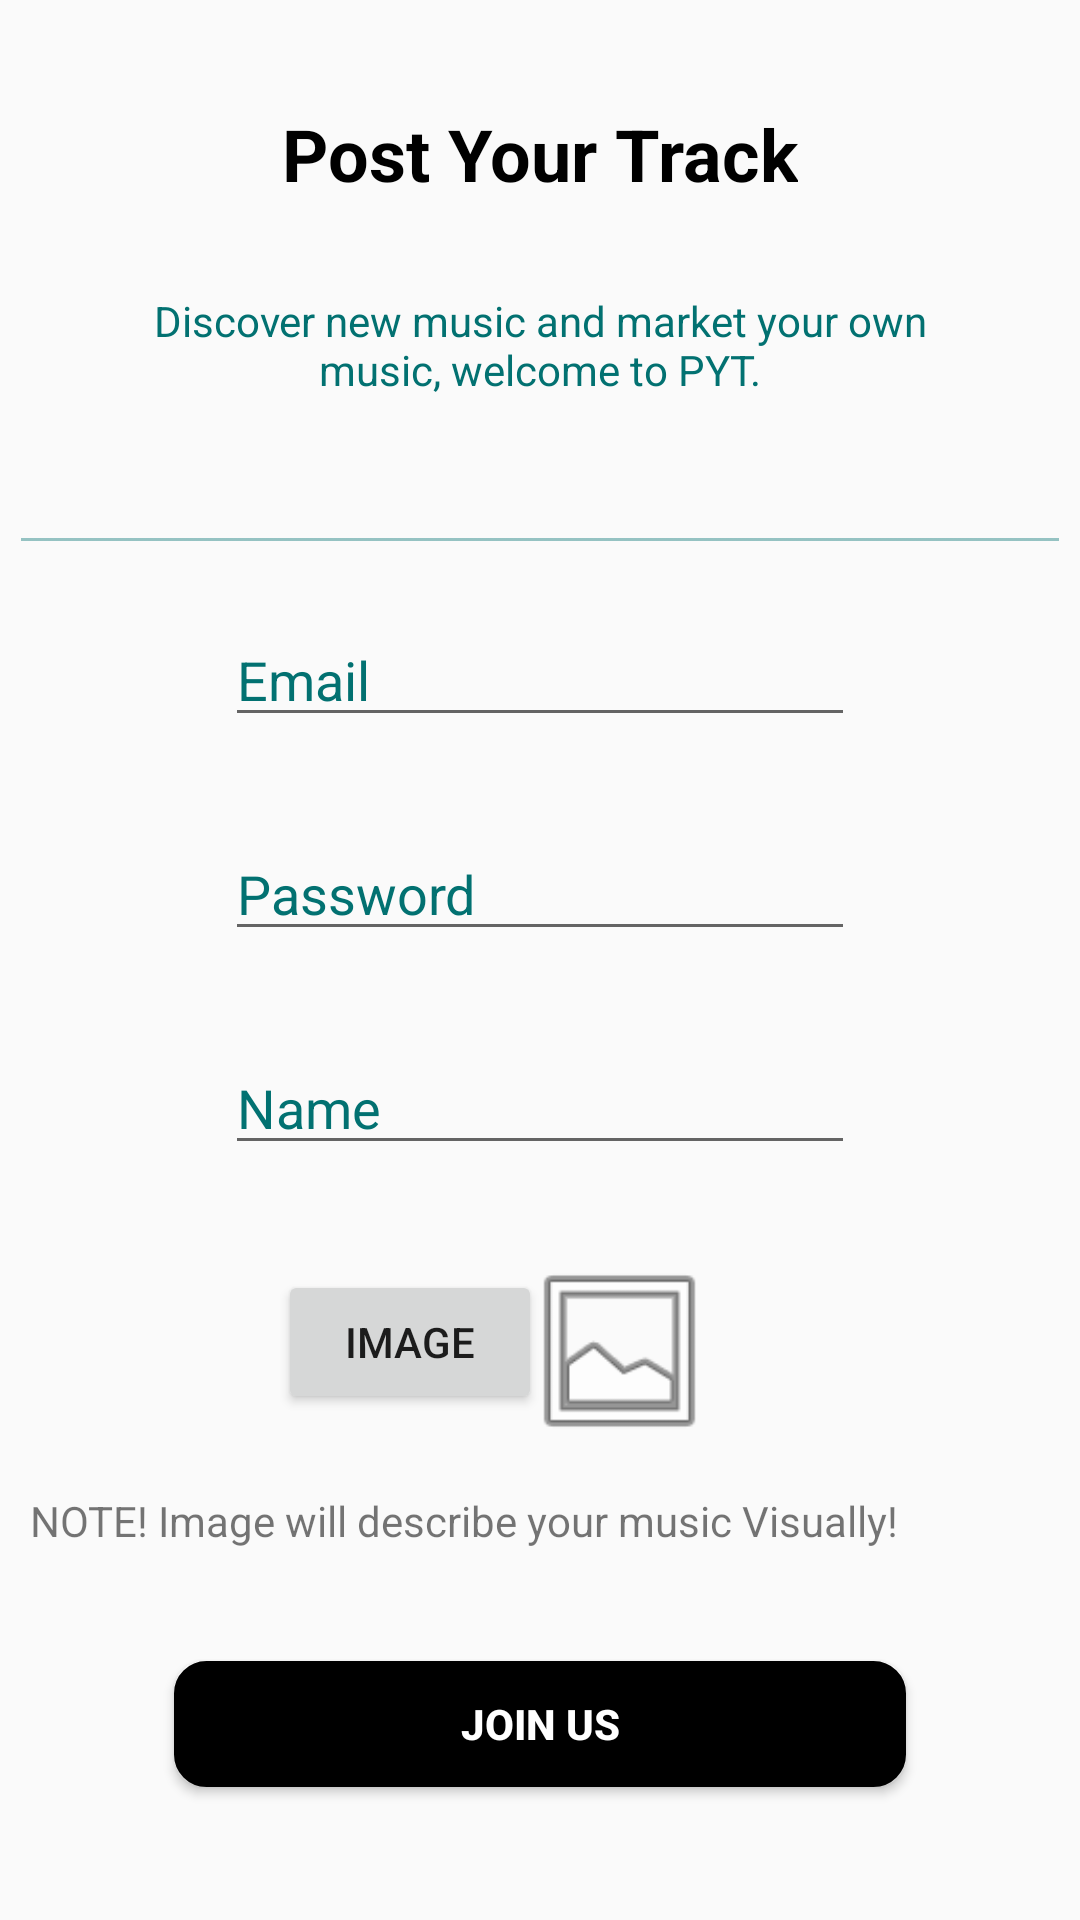

Where icons sit on this 1080px×1920px app screen, as (x1, y1, x2, y2):
gallery: (544, 1275, 695, 1427)
